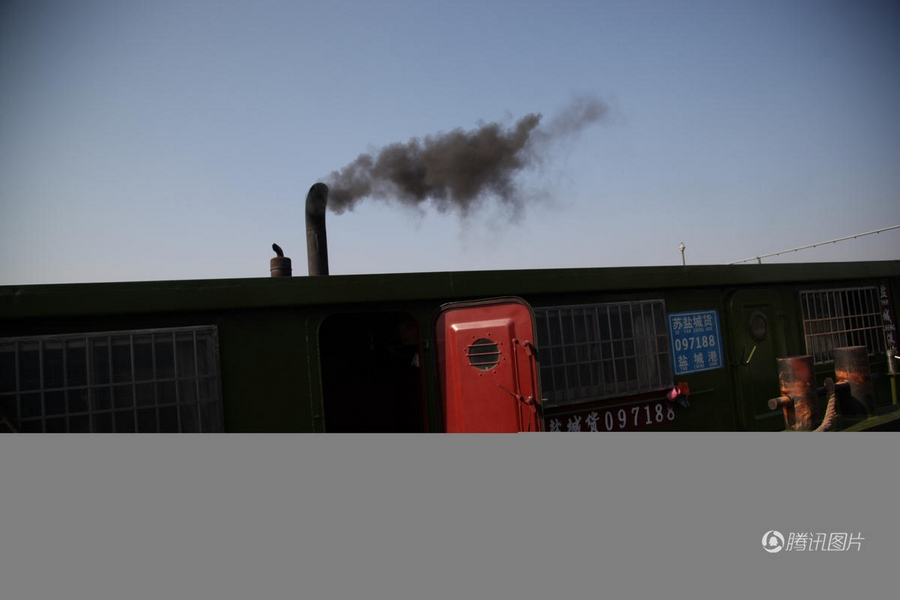dust: (295, 119, 572, 219)
